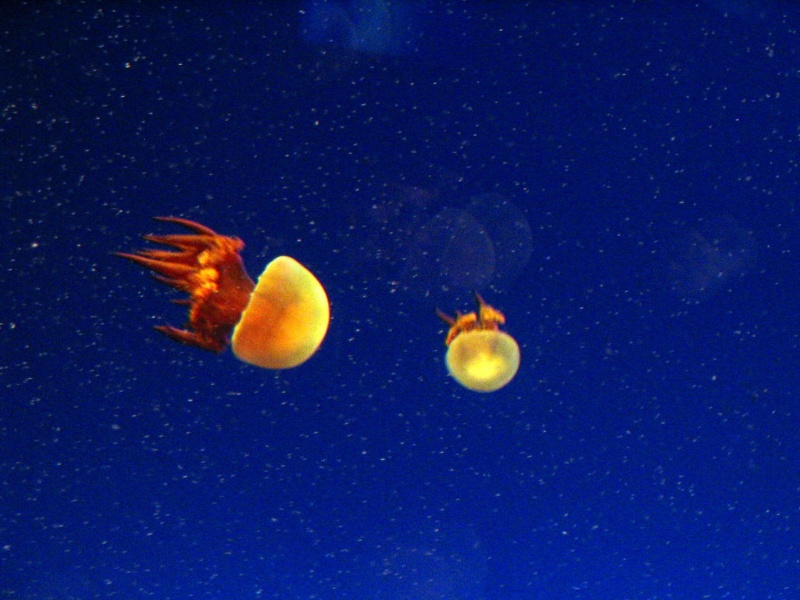Jellyfish: (116, 215, 331, 372), (436, 290, 519, 394)
